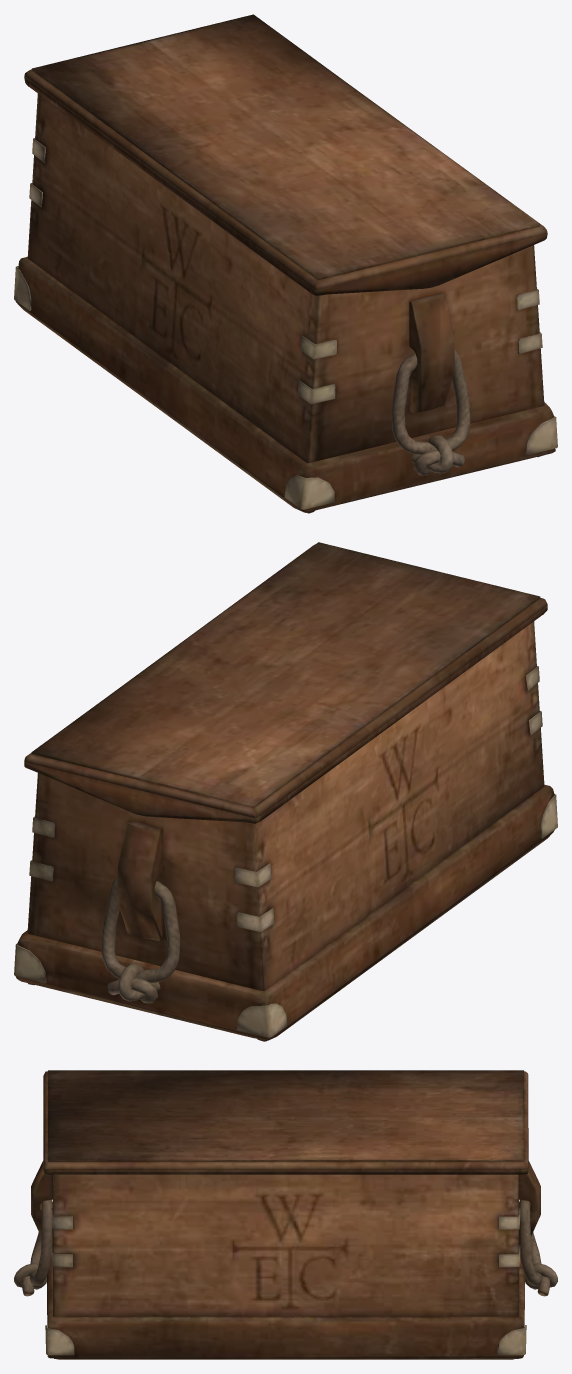
The model's file is wooden_crate_02.glb.
The picture shows the model from 3 angles, top to bottom: view 1: azimuth 30°, elevation 25°; view 2: azimuth 150°, elevation 25°; view 3: azimuth 270°, elevation 25°; orthographic projection. The views are drawn at different scales.
Visible parts, largest first — view 1: wooden_crate_02_crate; view 2: wooden_crate_02_crate; view 3: wooden_crate_02_crate.
Part boxes in pixels (x1,y1,x2,y2): wooden_crate_02_crate: (14,14,557,513); wooden_crate_02_crate: (14,542,557,1041); wooden_crate_02_crate: (14,1070,557,1359).
Bounding box in the file's own units: 0.5291 × 0.4639 × 1.17.
Materials: 1 (1 with a texture image).
